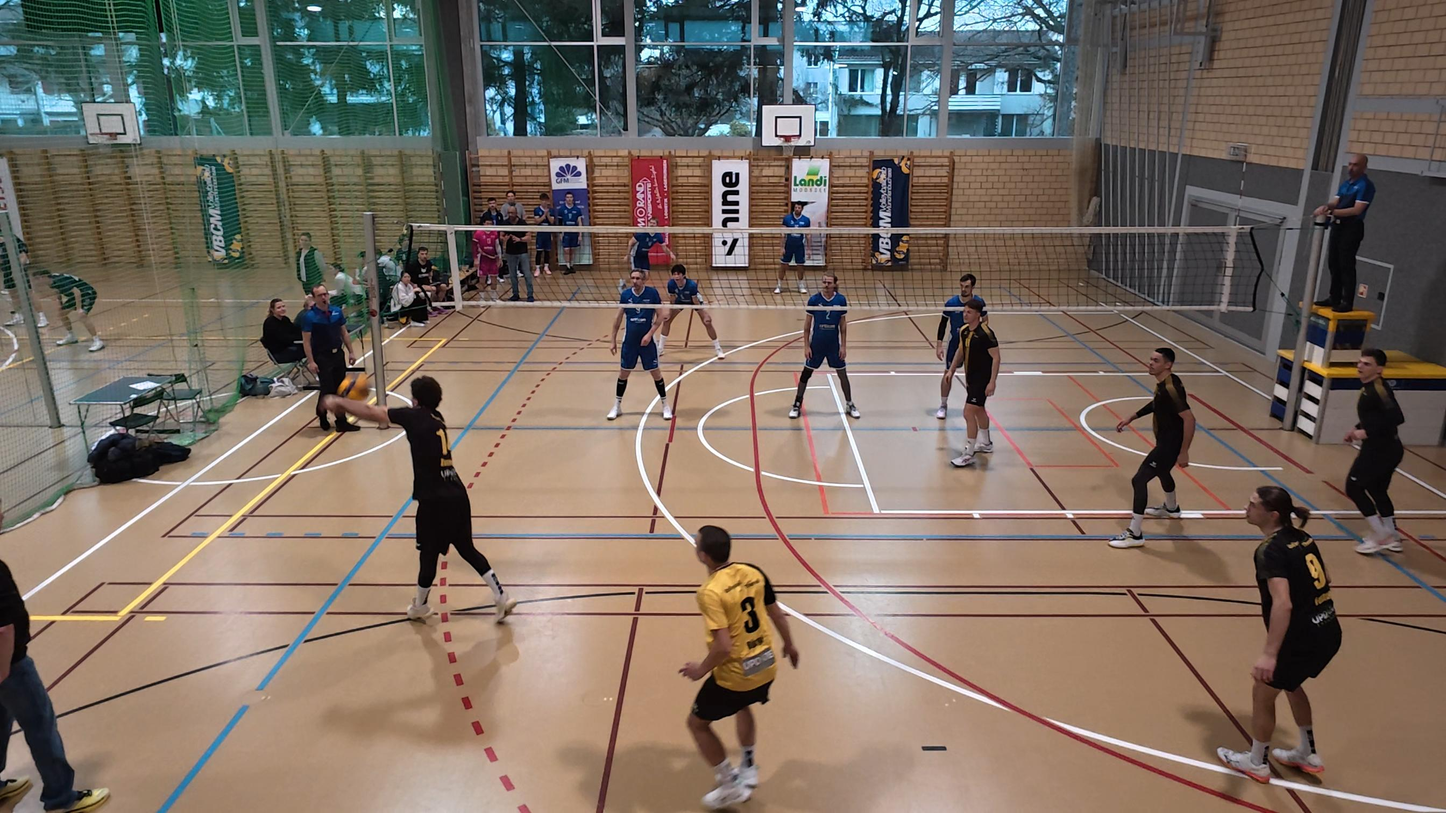Player: (1217, 486, 1341, 783), (678, 525, 799, 810), (1109, 347, 1196, 549), (1344, 348, 1405, 555), (787, 275, 859, 419), (606, 269, 672, 420), (947, 297, 1001, 468), (934, 273, 982, 420), (657, 262, 723, 360), (772, 201, 814, 294), (628, 217, 665, 289)
Receive: (318, 368, 520, 625)
ball: (339, 371, 373, 400)
